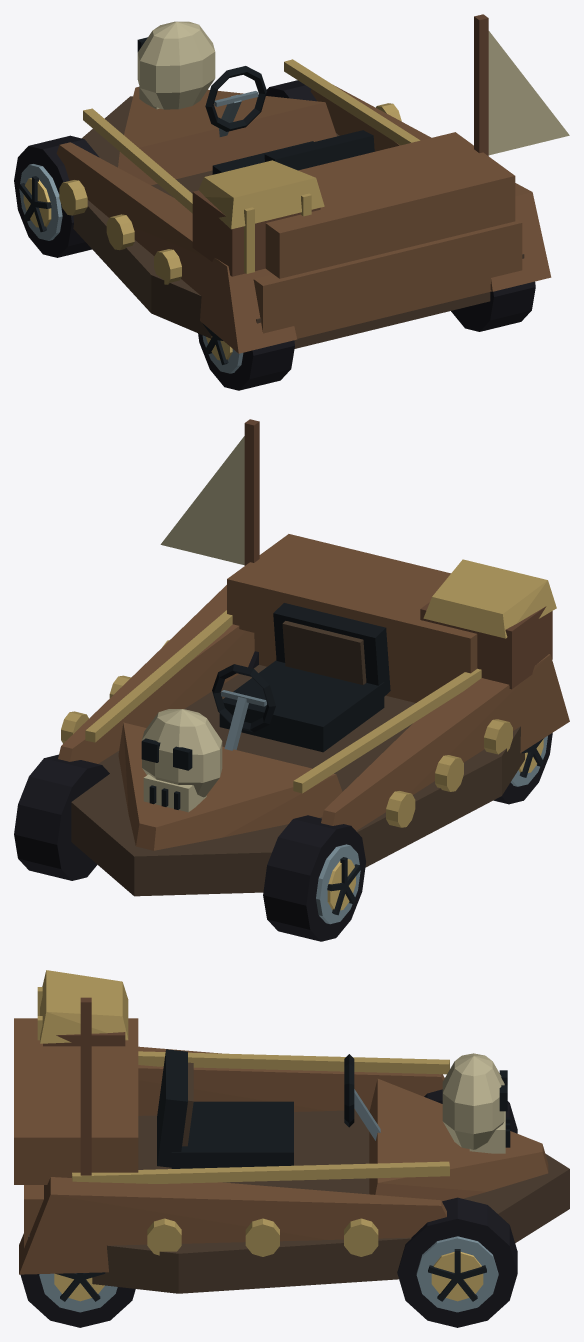
Rendered from kart.glb.
3 views of the same model, one above another, from view 1: azimuth 30°, elevation 25°; view 2: azimuth 150°, elevation 25°; view 3: azimuth 270°, elevation 25° (orthographic). The views are drawn at different scales.
Parts seen in each view (by area): view 1: identity-ship-ship-pointed-bow-and-raised-stern, identity-ship-motif-treasure, identity-ship-motif-sail, identity-ship-motif-skull, wheel-front-left, identity-ship-driver-cockpit, wheel-rear-left, wheel-rear-right, wheel-front-right; view 2: identity-ship-ship-pointed-bow-and-raised-stern, identity-ship-driver-cockpit, identity-ship-motif-treasure, wheel-front-left, identity-ship-motif-sail, wheel-front-right, identity-ship-motif-skull, wheel-rear-left; view 3: identity-ship-ship-pointed-bow-and-raised-stern, identity-ship-driver-cockpit, wheel-front-right, identity-ship-motif-treasure, identity-ship-motif-skull, wheel-rear-right, identity-ship-motif-sail.
Boxes of the visible parts, x1,y1,x2,y2 form: identity-ship-ship-pointed-bow-and-raised-stern: (56,59,551,353); identity-ship-motif-treasure: (192,160,324,276); identity-ship-motif-sail: (474,14,569,155); identity-ship-motif-skull: (137,21,215,109); wheel-front-left: (14,135,99,257); identity-ship-driver-cockpit: (205,66,374,174); wheel-rear-left: (198,323,294,390); wheel-rear-right: (451,281,535,331); wheel-front-right: (266,80,316,101); identity-ship-ship-pointed-bow-and-raised-stern: (58,534,569,896); identity-ship-driver-cockpit: (212,603,390,752); identity-ship-motif-treasure: (420,559,556,689); wheel-front-left: (263,815,365,941); identity-ship-motif-sail: (160,419,259,565); wheel-front-right: (14,754,109,880); identity-ship-motif-skull: (141,709,222,812); wheel-rear-left: (493,733,552,804); identity-ship-ship-pointed-bow-and-raised-stern: (14,1018,569,1293); identity-ship-driver-cockpit: (157,1049,380,1168); wheel-front-right: (397,1197,517,1327); identity-ship-motif-treasure: (37,970,128,1046); identity-ship-motif-skull: (442,1053,510,1153); wheel-rear-right: (20,1272,135,1327); identity-ship-motif-sail: (80,997,91,1175).
Size of the model in its own units: 2.24 by 1.74 by 2.77.
